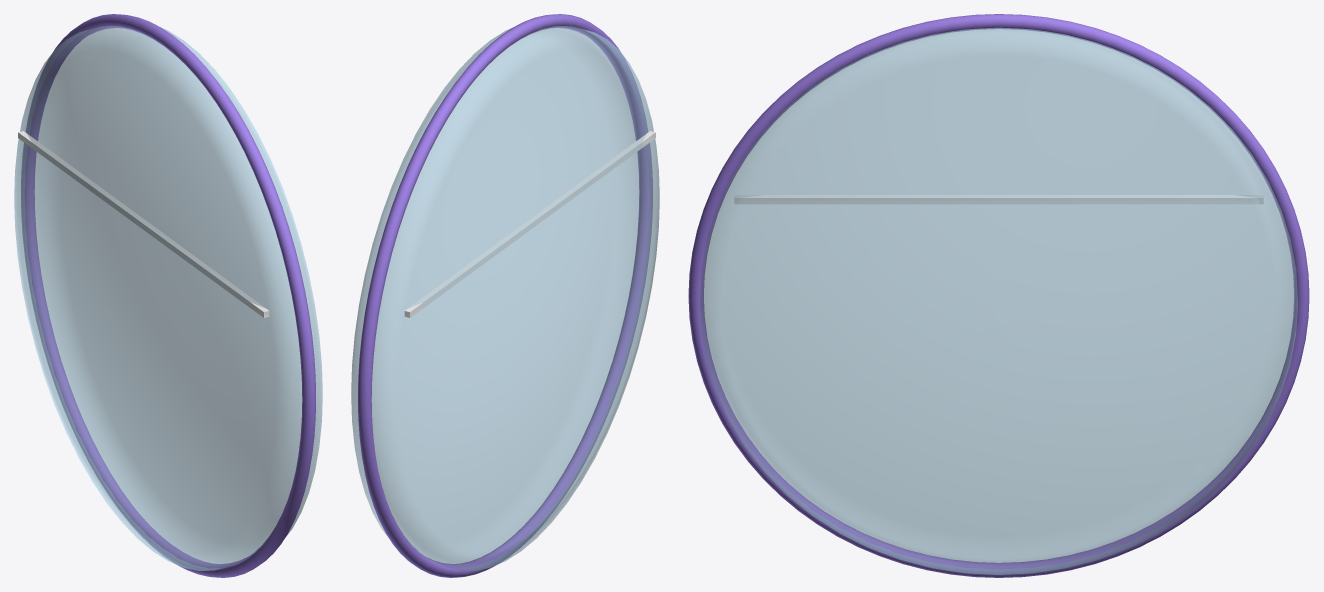
File: lens-convex.glb
3 views of the same model, side by side, from view 1: azimuth 30°, elevation 25°; view 2: azimuth 150°, elevation 25°; view 3: azimuth 270°, elevation 25° (orthographic). The views are drawn at different scales.
Visible parts, largest first — view 1: optical element, lens rim, vertical glint; view 2: optical element, lens rim, vertical glint; view 3: optical element, lens rim, vertical glint.
Part boxes in pixels (x1=…): optical element: x1=14, y1=26, x2=322, y2=570; lens rim: x1=21, y1=14, x2=315, y2=577; vertical glint: x1=18, y1=131, x2=269, y2=317; optical element: x1=351, y1=26, x2=659, y2=570; lens rim: x1=358, y1=14, x2=652, y2=577; vertical glint: x1=404, y1=131, x2=655, y2=317; optical element: x1=700, y1=28, x2=1297, y2=574; lens rim: x1=688, y1=14, x2=1309, y2=577; vertical glint: x1=734, y1=195, x2=1263, y2=204.
Size of the model in its own units: 0.38 by 1.62 by 1.62.
